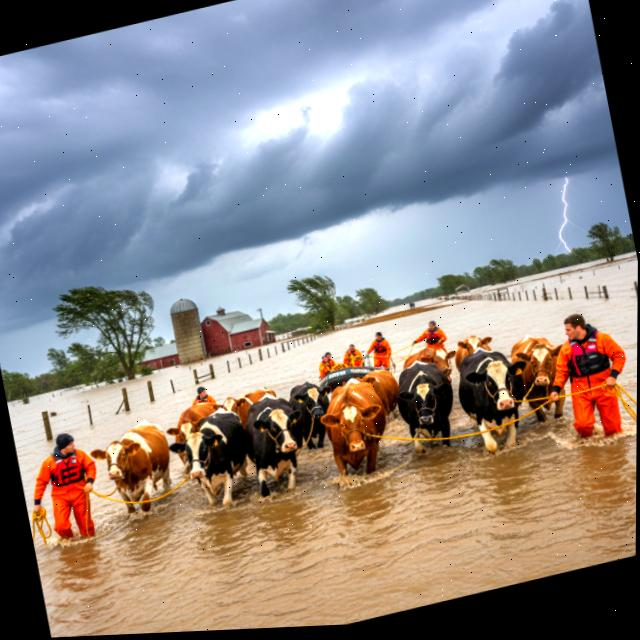cow: (83, 404, 194, 529), (450, 339, 536, 465), (311, 366, 398, 488), (168, 407, 264, 513), (239, 389, 311, 507), (390, 351, 462, 463), (505, 327, 577, 439), (329, 359, 415, 441), (282, 369, 335, 463), (160, 389, 234, 455), (214, 378, 288, 433), (398, 335, 459, 395), (449, 324, 500, 369)
rescuer: (537, 294, 638, 457), (13, 418, 115, 562), (411, 311, 458, 364), (363, 321, 402, 382), (341, 338, 368, 375), (186, 380, 216, 410), (313, 346, 337, 378)
